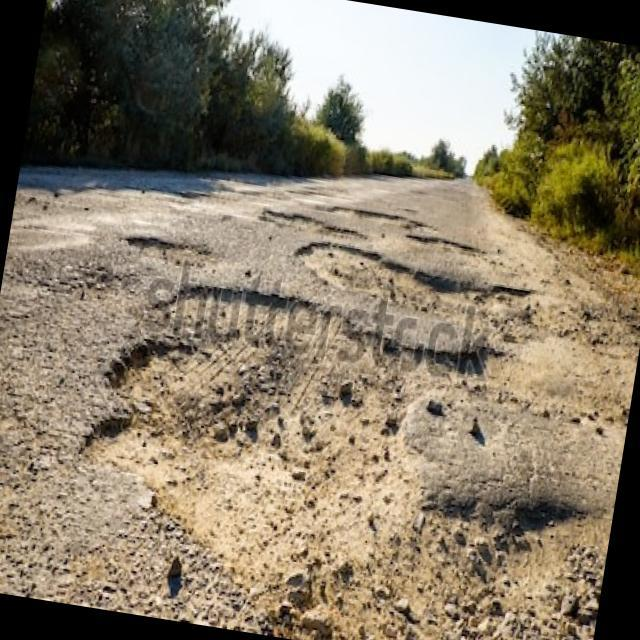Pothole: (79, 270, 426, 605), (428, 472, 612, 628), (288, 240, 542, 322), (428, 336, 528, 408), (258, 198, 368, 246), (116, 218, 214, 271)
